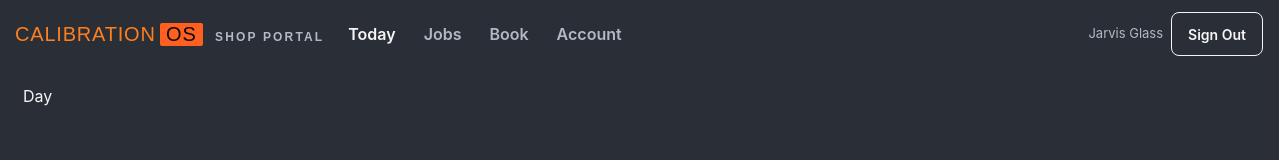
Test: the menu button opens the shop nav
Earlier steps of the test are not shown.
Expected: the navigation bar with test id "portal-nav" has class "open", left=348, top=24, right=622, bottom=44
Click the link with test id "portal-nav-jobs": (443, 34) left=424, top=24, right=462, bottom=44
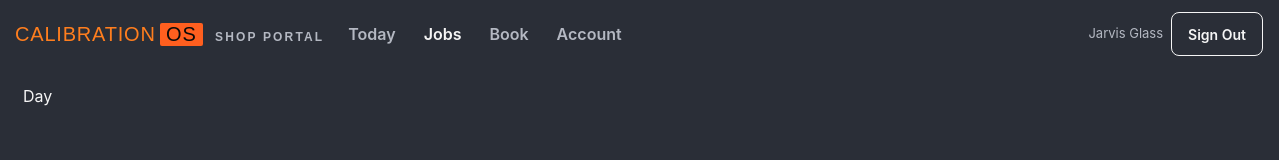
Expected: the navigation bar with test id "portal-nav" does not have class "open", left=348, top=24, right=622, bottom=44
